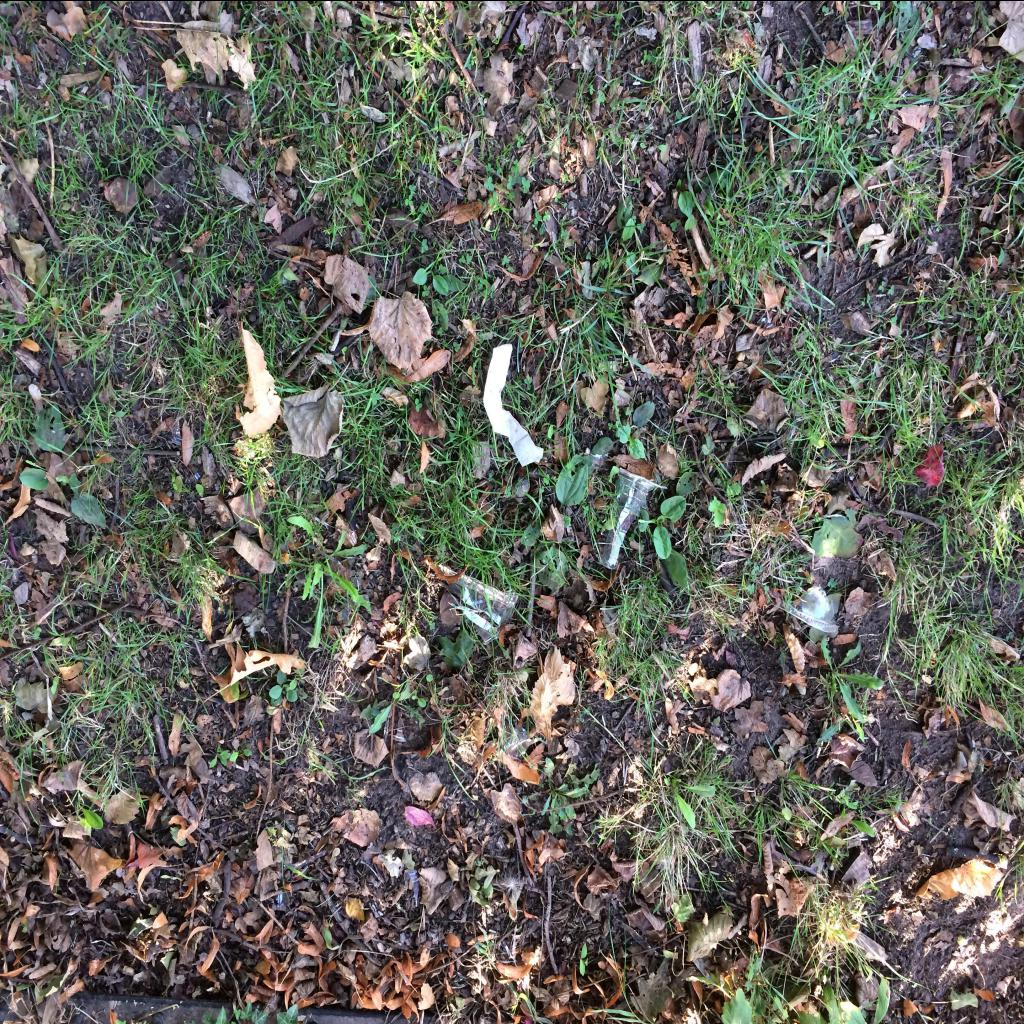Disposable plastic cup: (598, 466, 668, 568), (436, 561, 518, 644)
Normal paper: (484, 344, 544, 466)
Other plastic wrapper: (790, 584, 836, 632)
